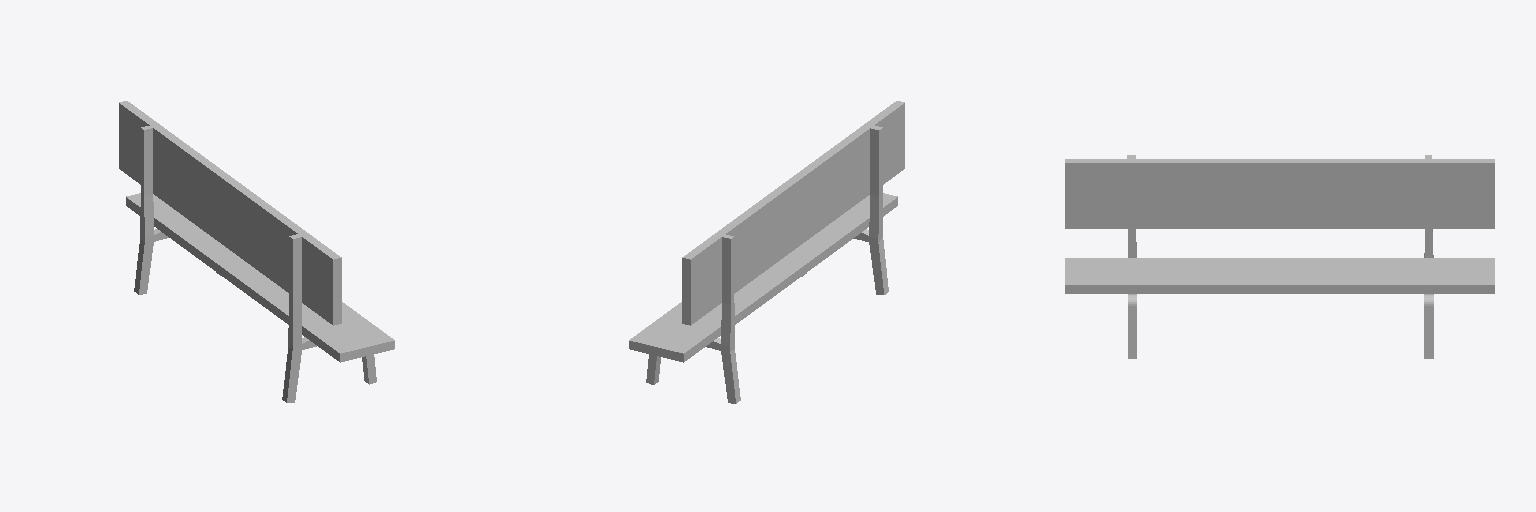
File: bench.obj
The picture shows the model from 3 angles: view 1: azimuth 30°, elevation 25°; view 2: azimuth 150°, elevation 25°; view 3: azimuth 270°, elevation 25°; orthographic projection.
Visible parts, largest first — view 1: Cube; view 2: Cube; view 3: Cube.
Part boxes in pixels (x1,y1,x2,y2): Cube: (119,101,394,402); Cube: (629,101,904,403); Cube: (1065,155,1494,358).
Size of the model in its own units: 1.32 by 2.31 by 5.46.